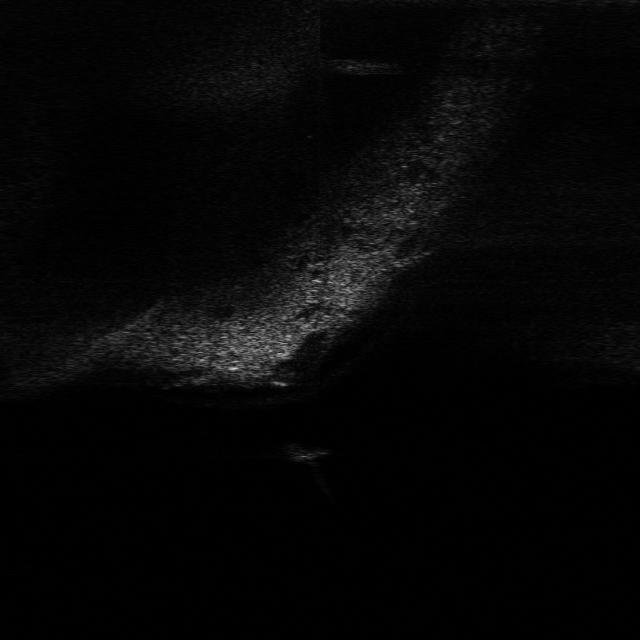cube: (272, 440, 334, 465)
